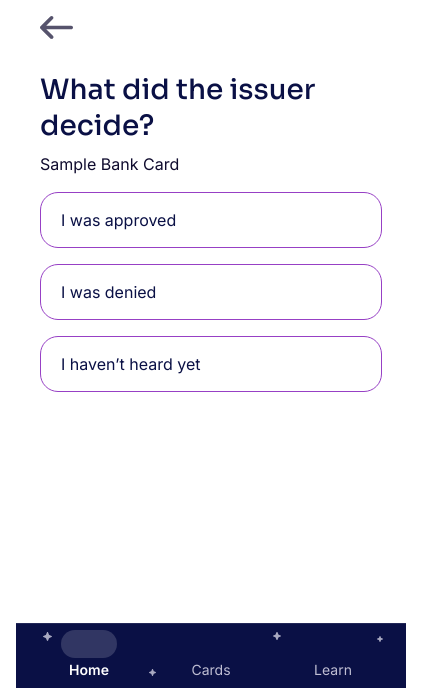
Test: MarkResult › stays on the screen with the API's reason when a save fails
The width and height of the screenshot is (423, 688).
Click the button "I was denied" at point(109, 292), box [40,264,382,320]
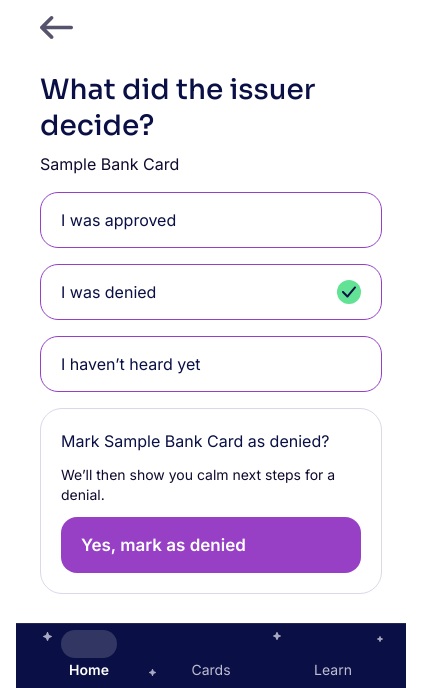
Click the button "Yes, mark as denied" at point(211, 545), box [61,517,361,573]
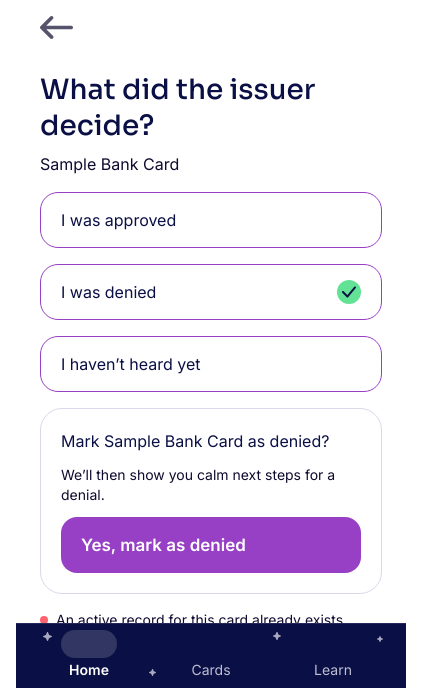
Check: the message shows "already exists", box [56,611,347,628]
